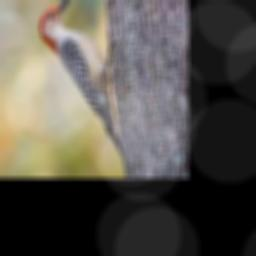Woodpecker: (38, 0, 123, 156)
